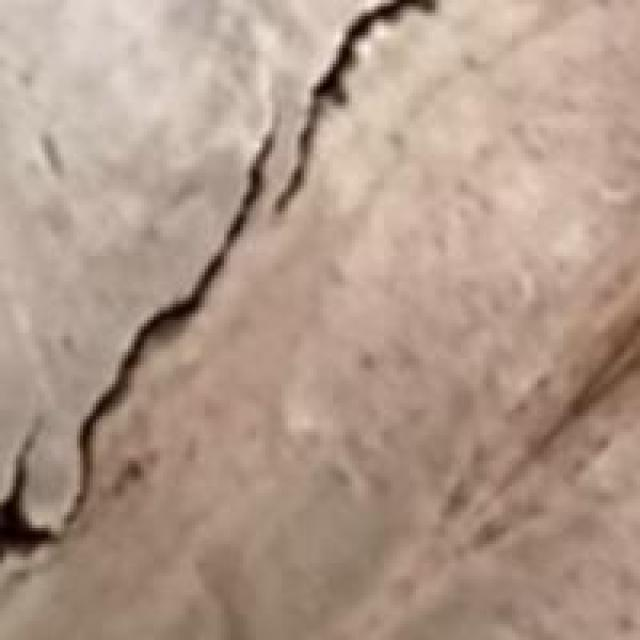crack: (3, 3, 496, 573)
